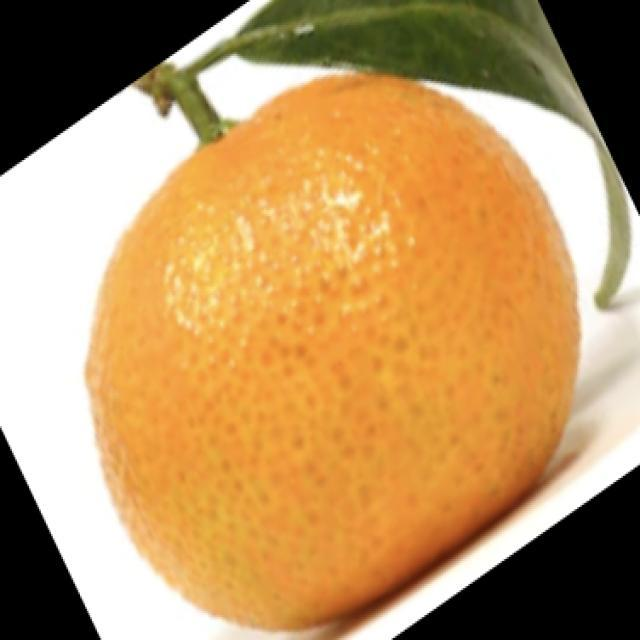Orange: (83, 71, 583, 634)
